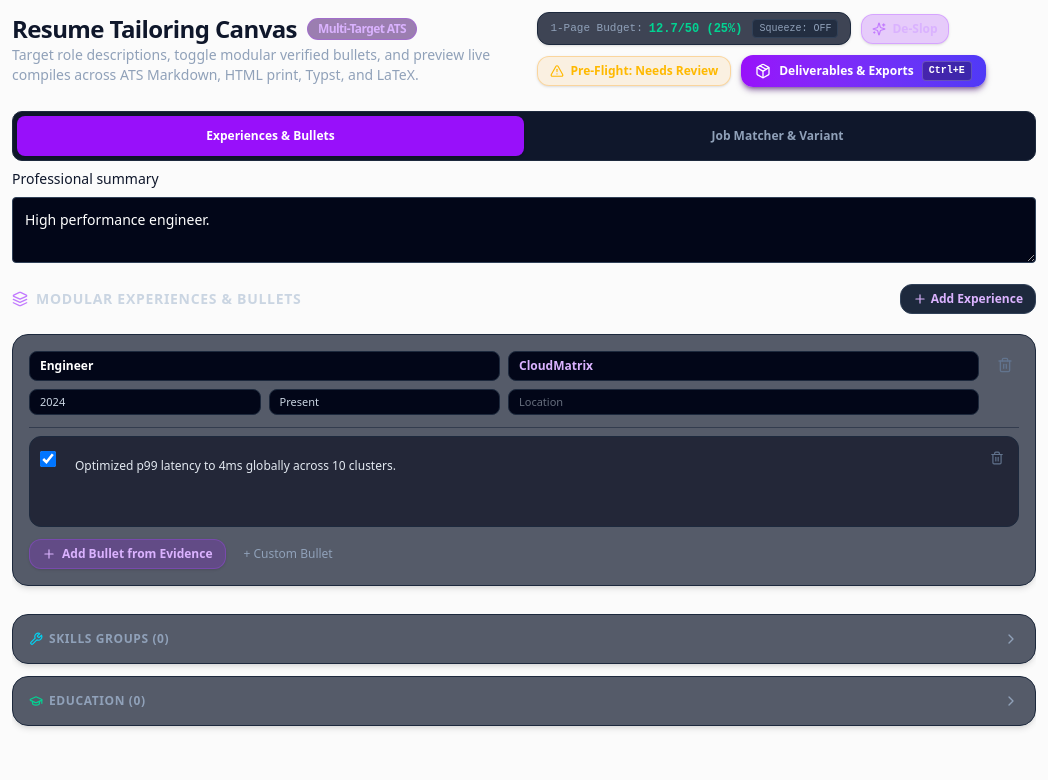
Test: Subagent C: UI Anti-Slop Integration Tests › ResumeTailor De-Slop Integration › shows feedback banner when resume has 0 empty hedges
Expected: the heading "Resume Tailoring Canvas Multi-Target ATS" is shown, [12,12,417,45]
Click the button "De-Slop" at (905, 29), box [862,14,949,44]
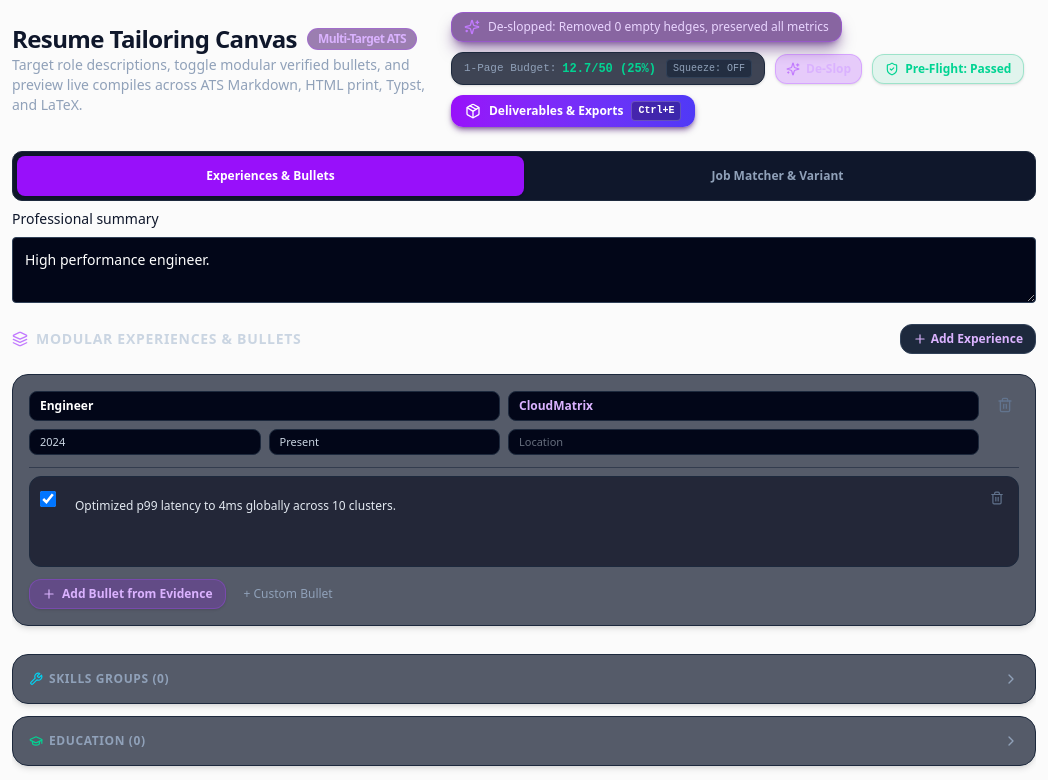
Result: the text "De-slopped: Removed 0 empty hedges, preserved all metrics" is shown at [488,19,829,35]
